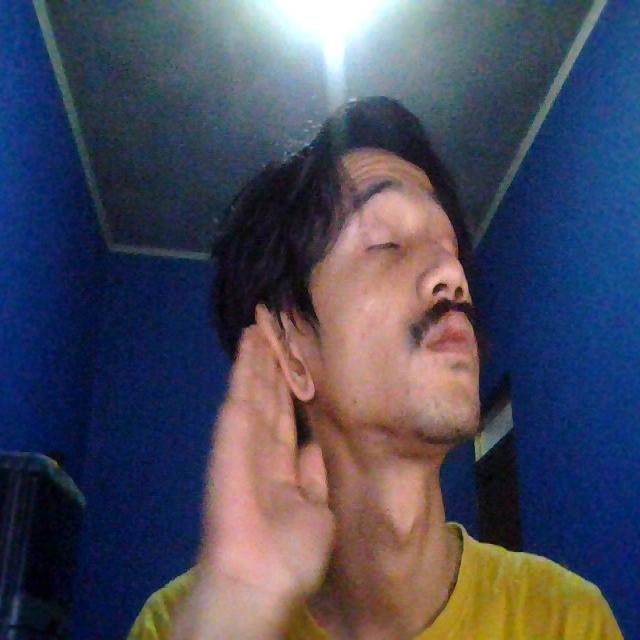Melihat keatas: (186, 147, 516, 478)
movement: (196, 303, 354, 597)
